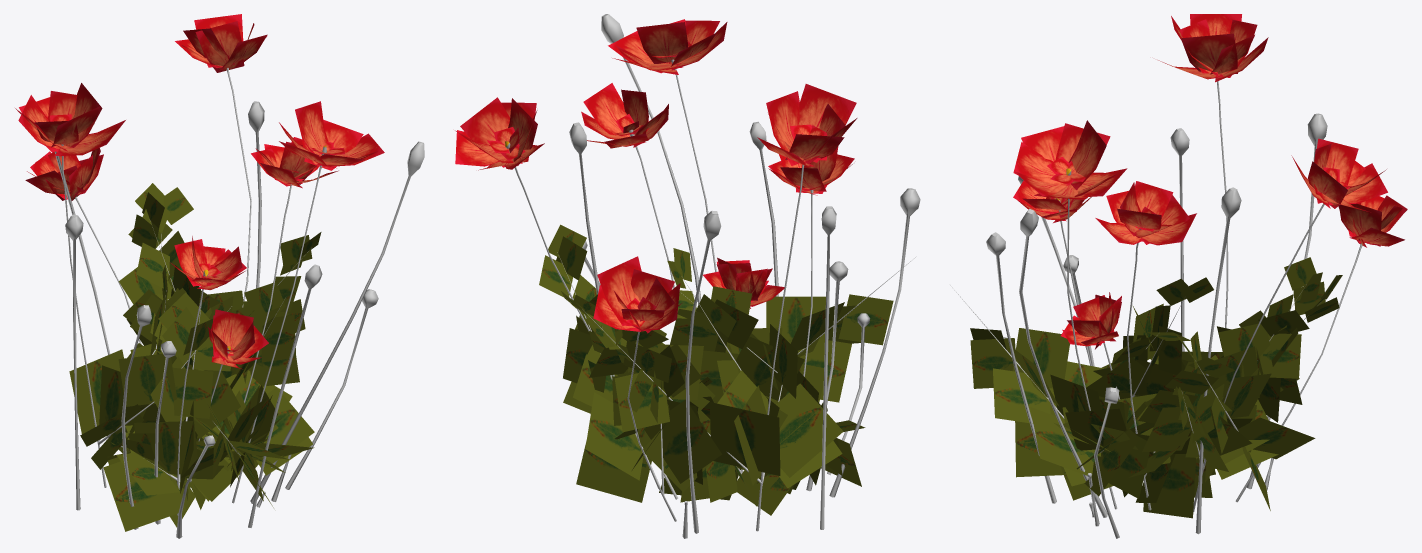
Rendered from SM_Poppy.fbx.
The picture shows the model from 3 angles, left to right: view 1: azimuth 30°, elevation 25°; view 2: azimuth 150°, elevation 25°; view 3: azimuth 270°, elevation 25°; orthographic projection. The views are drawn at different scales.
Parts seen in each view (by area): view 1: SM_Poppy_LOD0; view 2: SM_Poppy_LOD0; view 3: SM_Poppy_LOD0.
Boxes of the visible parts, x1,y1,x2,y2 form: SM_Poppy_LOD0: (15, 14, 424, 538); SM_Poppy_LOD0: (455, 14, 920, 538); SM_Poppy_LOD0: (949, 14, 1407, 538).
Bounding box in the file's own units: 136 × 163 × 172.
